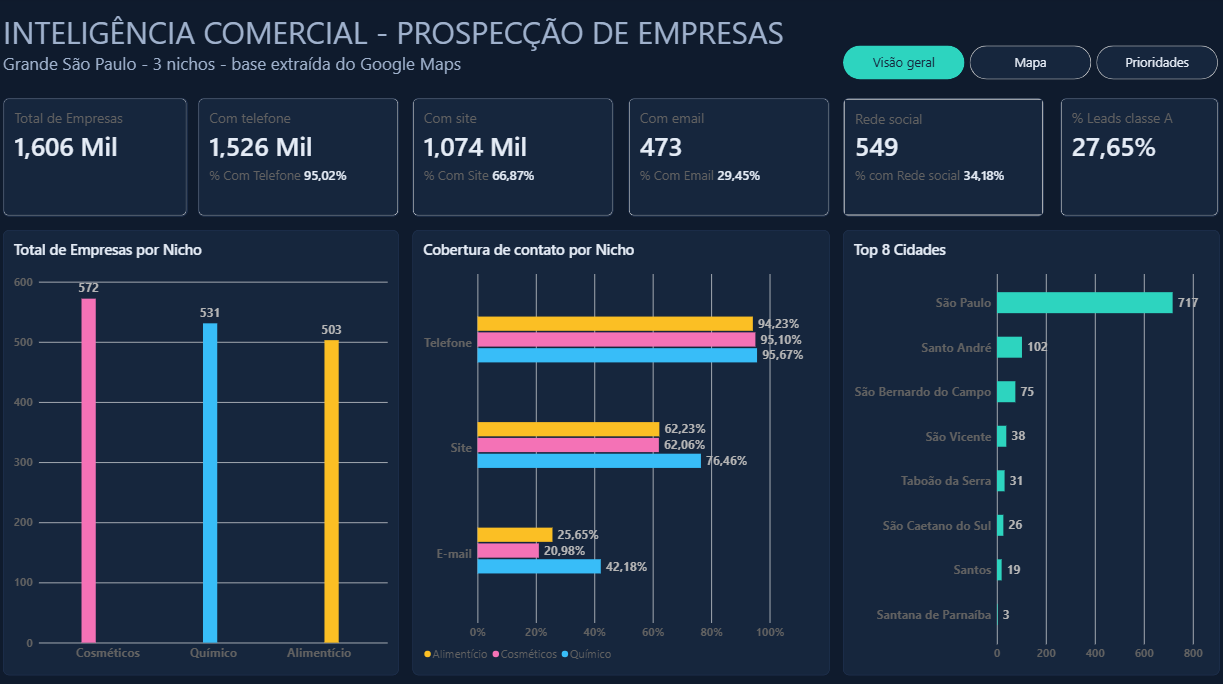

What the dashboard file says about the page in this screenshot:
{"tool":"powerbi","page":{"name":"Visão geral","canvas":[1920,1080],"ordinal":0},"visuals":[{"type":"cardVisual","fields":{"Data":["Medidas.Total de Empresas"]},"box":[9.4,159.4,288.4,185.2],"z":0},{"type":"cardVisual","fields":{"Data":["Medidas.Empresas com telefone"]},"box":[314.2,159.4,314.2,185.2],"z":1000},{"type":"cardVisual","fields":{"Data":["Medidas.Empresas com site"]},"box":[649.4,159.4,314.2,185.2],"z":2000},{"type":"cardVisual","fields":{"Data":["Medidas.Empresas com email"]},"box":[987,159.4,314.2,185.2],"z":3000},{"type":"clusteredColumnChart","title":"Total de Empresas por Nicho","fields":{"Category":["Base_prospeccao_completa.Nicho"],"Series":["Base_prospeccao_completa.Nicho"],"Y":["Medidas.Total de Empresas"]},"box":[9.4,365.7,618.9,696.3],"z":4000},{"type":"cardVisual","fields":{"Data":["Medidas.Empresas com Rede social"]},"box":[1322.5,159,314.2,185.2],"z":5000},{"type":"clusteredBarChart","title":"Cobertura de contato por Nicho","fields":{"Category":["Canal de Contato.Canal"],"Series":["Base_prospeccao_completa.Nicho"],"Y":["Medidas.% Cobertura"]},"box":[649.4,365.7,651.8,696.3],"z":6000},{"type":"clusteredBarChart","title":"Top 8 Cidades ","fields":{"Category":["Base_prospeccao_completa.Cidade"],"Y":["CountNonNull(Base_prospeccao_completa.Empresa)"]},"box":[1322.3,365.7,588.5,696.3],"z":7000},{"type":"cardVisual","fields":{"Data":["Medidas.% Leads classe A"]},"box":[1662.2,159.4,247.5,185],"z":8000},{"type":"textbox","box":[9.4,23.4,1291.8,150],"z":9000},{"type":"pageNavigator","box":[1322.3,77.4,588.5,53.9],"z":10000}]}

Visuals, with their boxes in screenshot pixels (x1, y1, x2, y2), scaled from the page's 1920x1080 canvas onto the 1223x684 screenshot:
cardVisual - Medidas.Total de Empresas: box=[6, 101, 190, 218]
cardVisual - Medidas.Empresas com telefone: box=[200, 101, 400, 218]
cardVisual - Medidas.Empresas com site: box=[414, 101, 614, 218]
cardVisual - Medidas.Empresas com email: box=[629, 101, 829, 218]
"Total de Empresas por Nicho" clusteredColumnChart: box=[6, 232, 400, 673]
cardVisual - Medidas.Empresas com Rede social: box=[842, 101, 1043, 218]
"Cobertura de contato por Nicho" clusteredBarChart: box=[414, 232, 829, 673]
"Top 8 Cidades " clusteredBarChart: box=[842, 232, 1217, 673]
cardVisual - Medidas.% Leads classe A: box=[1059, 101, 1216, 218]
textbox: box=[6, 15, 829, 110]
pageNavigator: box=[842, 49, 1217, 83]
